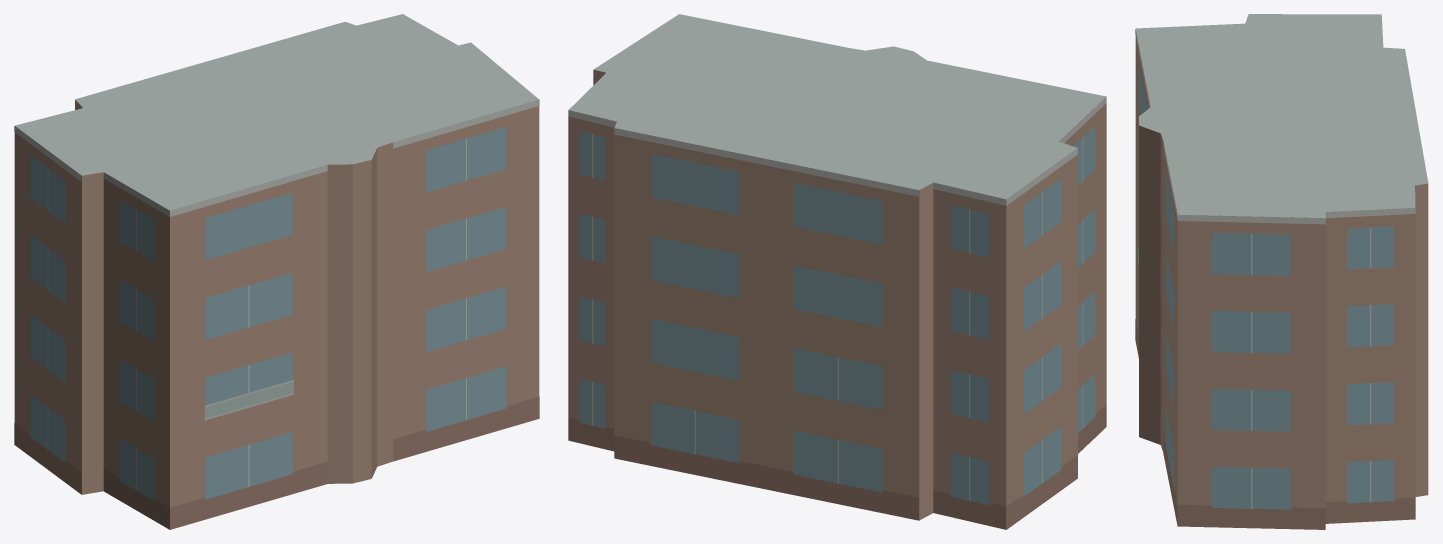
Rendered from survey-upis-32634353.glb.
The picture shows the model from 3 angles, left to right: view 1: azimuth 30°, elevation 25°; view 2: azimuth 150°, elevation 25°; view 3: azimuth 270°, elevation 25°; orthographic projection. The views are drawn at different scales.
Parts seen in each view (by area): view 1: survey-upis-32634353.tmp; view 2: survey-upis-32634353.tmp; view 3: survey-upis-32634353.tmp.
Boxes of the visible parts, x1,y1,x2,y2 form: survey-upis-32634353.tmp: [14, 14, 539, 529]; survey-upis-32634353.tmp: [568, 14, 1106, 529]; survey-upis-32634353.tmp: [1135, 14, 1428, 529].
Bounding box in the file's own units: 17.29 × 12.3 × 10.49.
